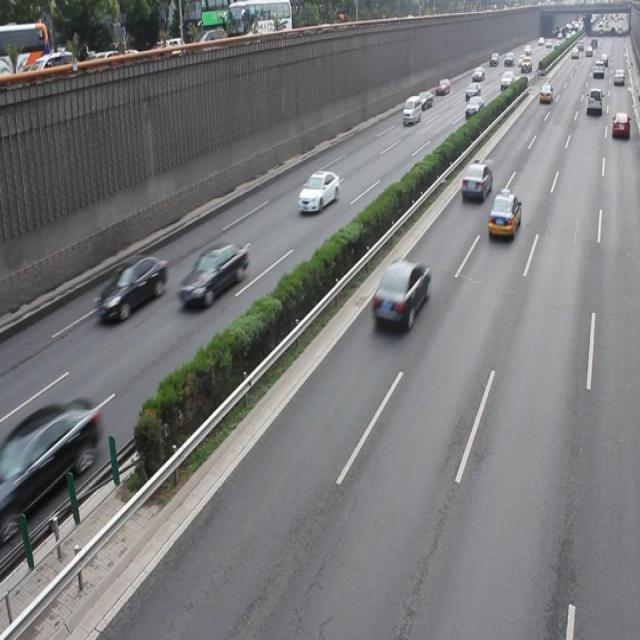car: (1, 395, 102, 540), (97, 253, 169, 321), (178, 242, 250, 306), (372, 258, 429, 328), (297, 168, 341, 212), (486, 193, 520, 240), (460, 162, 493, 200)
